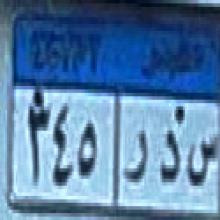3: (26, 108, 50, 181)
4: (54, 100, 74, 190)
5: (76, 120, 99, 187)
daal: (155, 128, 181, 188)
raa: (126, 128, 148, 193)
seen: (186, 129, 219, 192)
